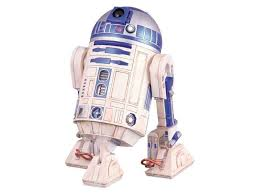r2d2: (65, 5, 194, 188)
